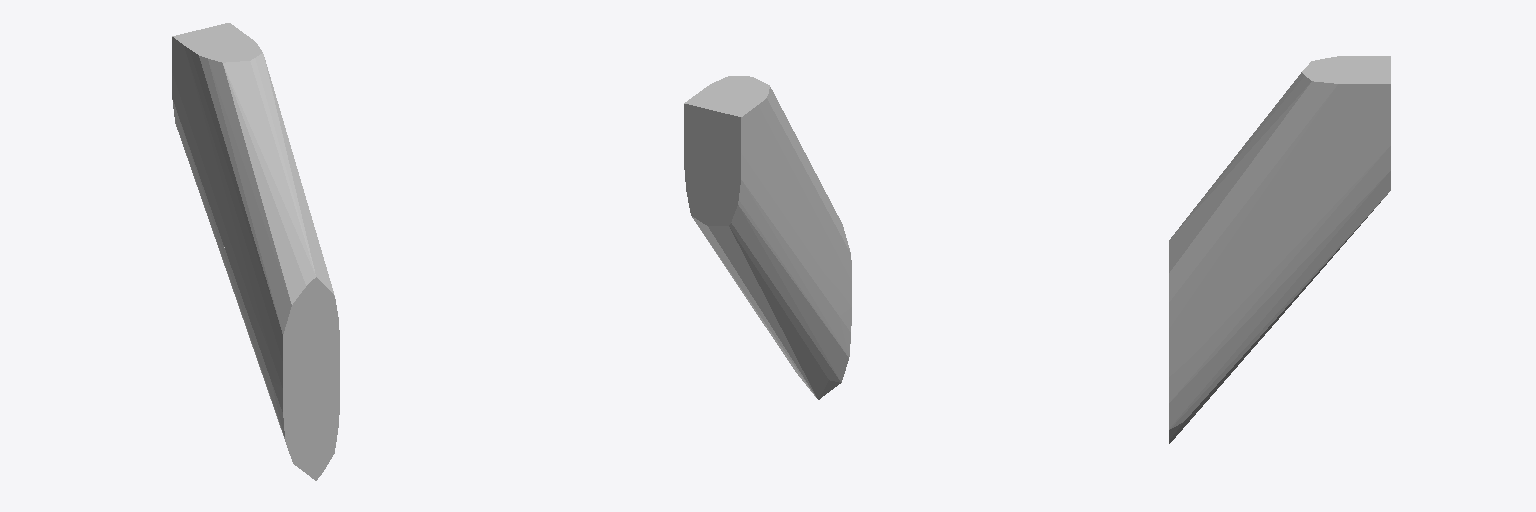
File: Cart_outer_skeleton_collision_19.obj
The picture shows the model from 3 angles: view 1: azimuth 30°, elevation 25°; view 2: azimuth 150°, elevation 25°; view 3: azimuth 270°, elevation 25°; orthographic projection.
Size of the model in its own units: 0.0192 by 0.1191 by 0.0641.